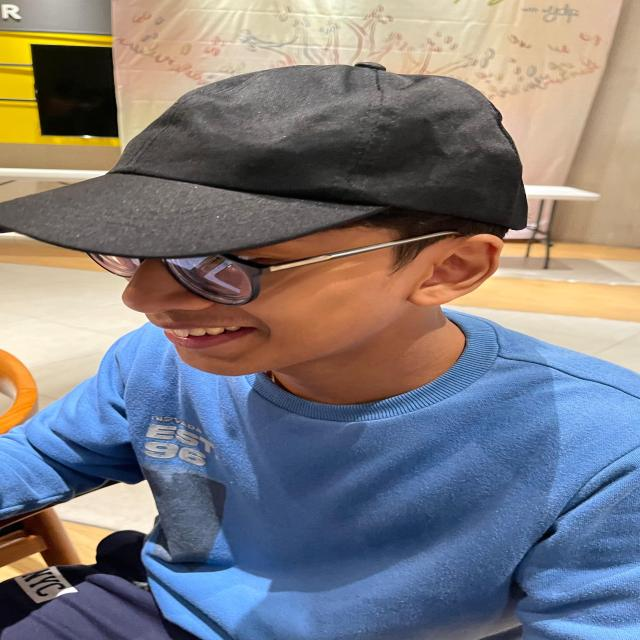3_gorra: (1, 57, 536, 262)
